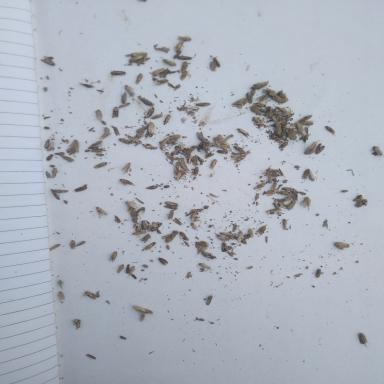pbw: (250, 80, 270, 90), (80, 290, 98, 300), (40, 55, 56, 66), (179, 157, 190, 172), (118, 178, 134, 188), (117, 136, 133, 146), (162, 200, 179, 209), (145, 122, 155, 137), (150, 67, 165, 77), (358, 332, 368, 347), (231, 154, 246, 164), (274, 120, 282, 138), (254, 181, 270, 190), (95, 206, 108, 217), (50, 188, 60, 202), (255, 224, 266, 236), (142, 107, 154, 118), (150, 221, 162, 232), (174, 40, 185, 52), (256, 94, 269, 104), (110, 106, 120, 119), (275, 105, 291, 113), (246, 105, 262, 113), (74, 183, 88, 192), (174, 171, 188, 180), (123, 200, 137, 209), (286, 200, 298, 210), (88, 140, 103, 148), (59, 154, 74, 162), (93, 161, 108, 169), (371, 144, 381, 156), (233, 145, 246, 154), (142, 242, 155, 251), (137, 97, 153, 104), (298, 114, 312, 122), (134, 124, 148, 132), (121, 162, 132, 172), (71, 319, 81, 330), (324, 125, 336, 134), (306, 169, 315, 181), (122, 82, 131, 94), (295, 122, 304, 134), (135, 72, 144, 84), (283, 194, 298, 201), (162, 59, 177, 66), (179, 70, 188, 81), (109, 250, 118, 261), (173, 160, 180, 174), (154, 79, 168, 86), (162, 113, 170, 125), (191, 166, 199, 178), (57, 291, 65, 303), (197, 264, 216, 269), (303, 195, 310, 208), (246, 91, 253, 104), (263, 189, 278, 195), (53, 188, 68, 194), (212, 56, 220, 67), (318, 145, 326, 156), (209, 159, 217, 170), (205, 295, 213, 306), (181, 60, 188, 72), (117, 102, 131, 108), (121, 92, 128, 104), (178, 35, 192, 41), (236, 127, 248, 134), (252, 102, 266, 108), (188, 145, 197, 154), (110, 70, 126, 75), (135, 206, 145, 214), (46, 141, 54, 151), (156, 258, 166, 266), (155, 46, 171, 51), (195, 102, 211, 107), (275, 190, 291, 195), (128, 266, 136, 276), (140, 234, 151, 241), (352, 195, 363, 202), (177, 55, 192, 60), (167, 211, 175, 220), (264, 209, 282, 213), (151, 114, 163, 120), (132, 230, 144, 236), (45, 154, 54, 162), (75, 240, 85, 247), (51, 168, 58, 178), (315, 268, 322, 278), (44, 138, 51, 148), (141, 220, 148, 230), (268, 174, 275, 184), (280, 187, 297, 191), (186, 153, 192, 164), (96, 108, 102, 119), (190, 211, 196, 222), (136, 130, 144, 138), (181, 147, 189, 155), (173, 51, 182, 58), (103, 127, 110, 136), (69, 240, 76, 249), (190, 221, 197, 230), (117, 264, 124, 273), (113, 128, 120, 137), (236, 230, 242, 240), (186, 105, 198, 110), (179, 141, 185, 151), (147, 145, 155, 152), (272, 202, 280, 209), (282, 219, 287, 230), (284, 125, 295, 130), (249, 227, 254, 238), (271, 183, 277, 191), (254, 117, 262, 123), (302, 170, 308, 178), (216, 150, 228, 154), (126, 264, 130, 274), (220, 232, 232, 235), (186, 272, 192, 278), (95, 153, 105, 156)
